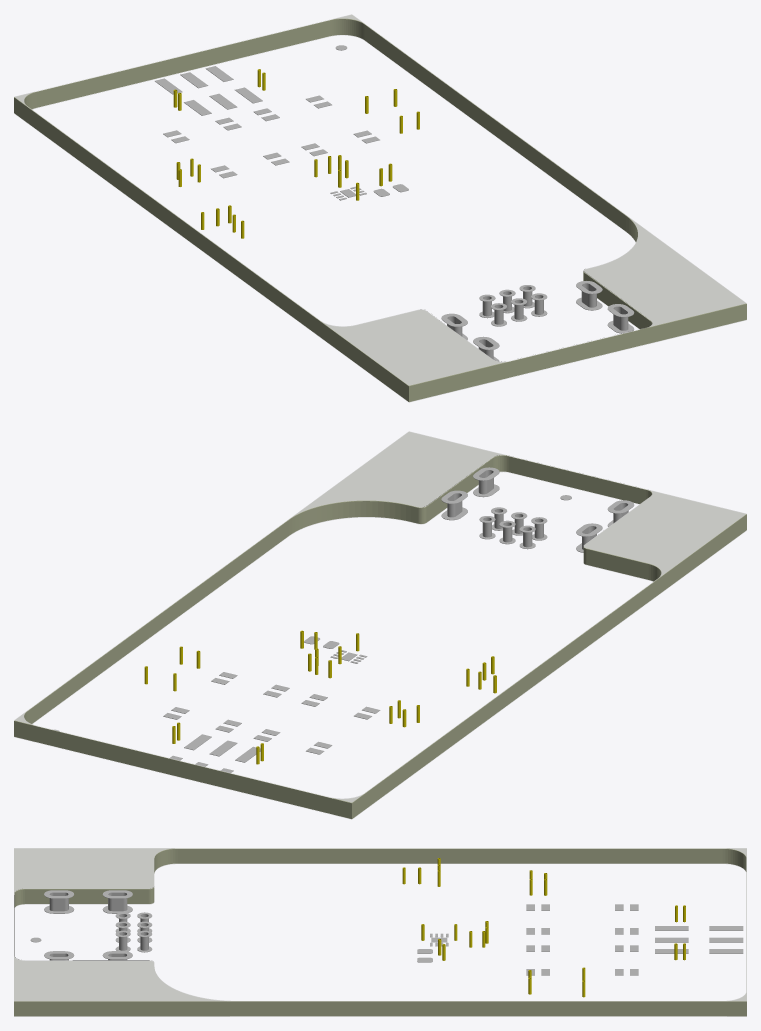
The model's file is tr23-sao-hw-troopers-2023-shitty-add-on.glb.
The picture shows the model from 3 angles, top to bottom: view 1: azimuth 30°, elevation 25°; view 2: azimuth 150°, elevation 25°; view 3: azimuth 270°, elevation 25°; orthographic projection. The views are drawn at different scales.
Parts seen in each view (by area): view 1: =>[0:1:1:7], =>[0:1:1:5], =>[0:1:1:2]; view 2: =>[0:1:1:7], =>[0:1:1:5], =>[0:1:1:2]; view 3: =>[0:1:1:7], =>[0:1:1:5], =>[0:1:1:2].
Boxes of the visible parts, x1,y1,x2,y2 form: =>[0:1:1:7]: (14, 15, 746, 401); =>[0:1:1:5]: (14, 14, 746, 402); =>[0:1:1:2]: (155, 45, 634, 361); =>[0:1:1:7]: (14, 432, 746, 818); =>[0:1:1:5]: (14, 431, 746, 819); =>[0:1:1:2]: (52, 467, 634, 773); =>[0:1:1:7]: (14, 848, 746, 1016); =>[0:1:1:5]: (14, 848, 746, 1016); =>[0:1:1:2]: (30, 858, 743, 997).
Size of the model in its own units: 0.0336 by 0.00163 by 0.0681.
Materials: 4 (4 with a texture image).
